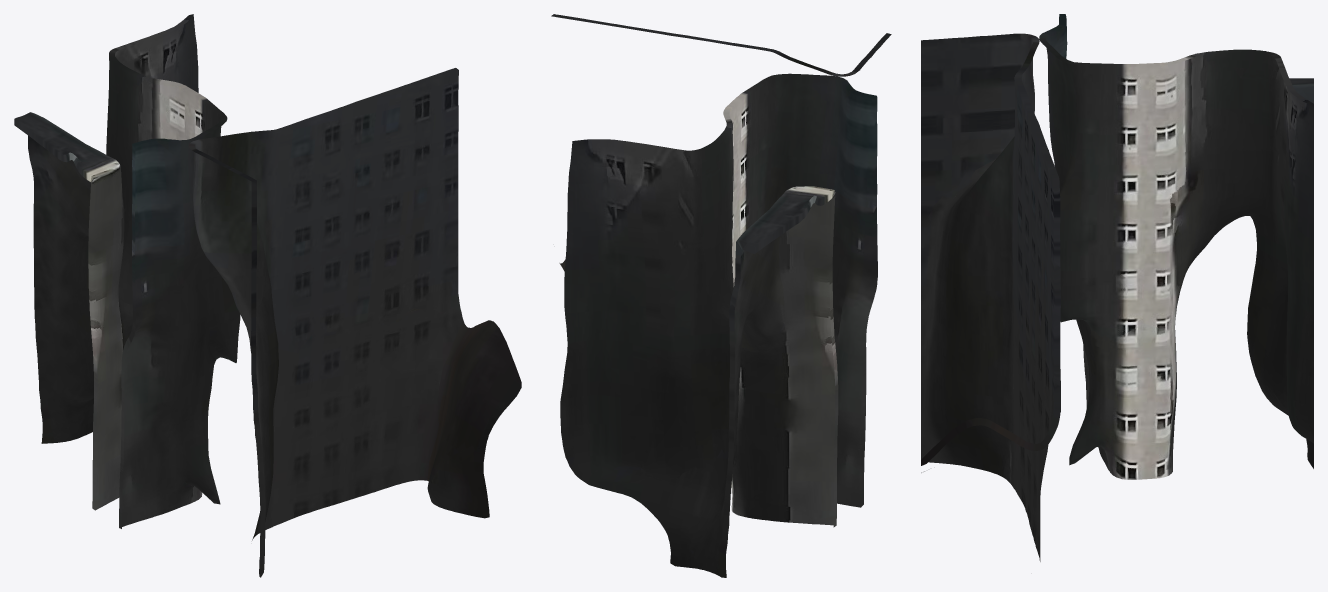
Rendered from z20-167767-405238-h1-yup-uvflip-v3-world.glb.
3 renders of one model, left to right at view 1: azimuth 30°, elevation 25°; view 2: azimuth 150°, elevation 25°; view 3: azimuth 270°, elevation 25°, orthographic. The views are drawn at different scales.
Bounding box in the file's own units: 30.16 × 35.8 × 30.32.
1 material, 1 textured.
